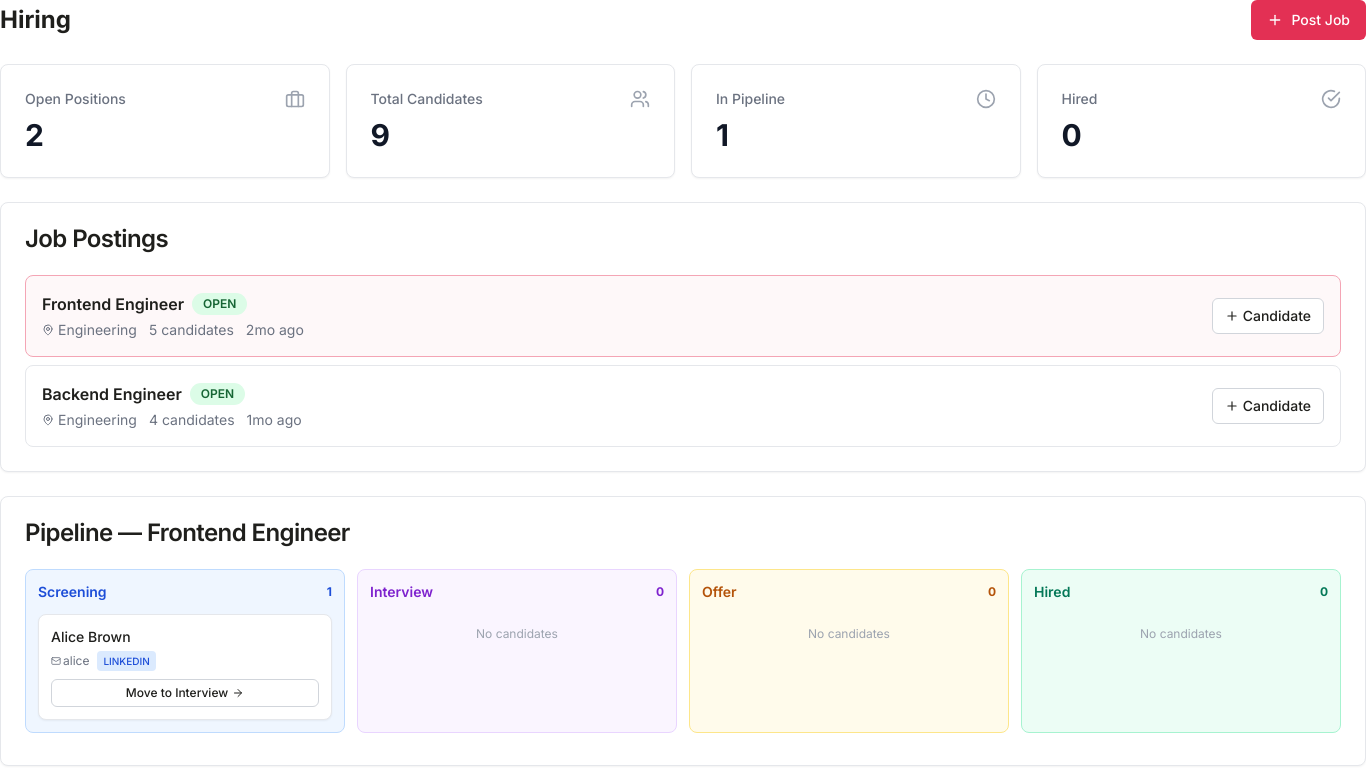
Test: HiringPage › C-10: Clicking the Post Job button causes the CreateJob modal to appear in the DOM
Click the button "Post Job": (1309, 20) [1251,0,1365,40]
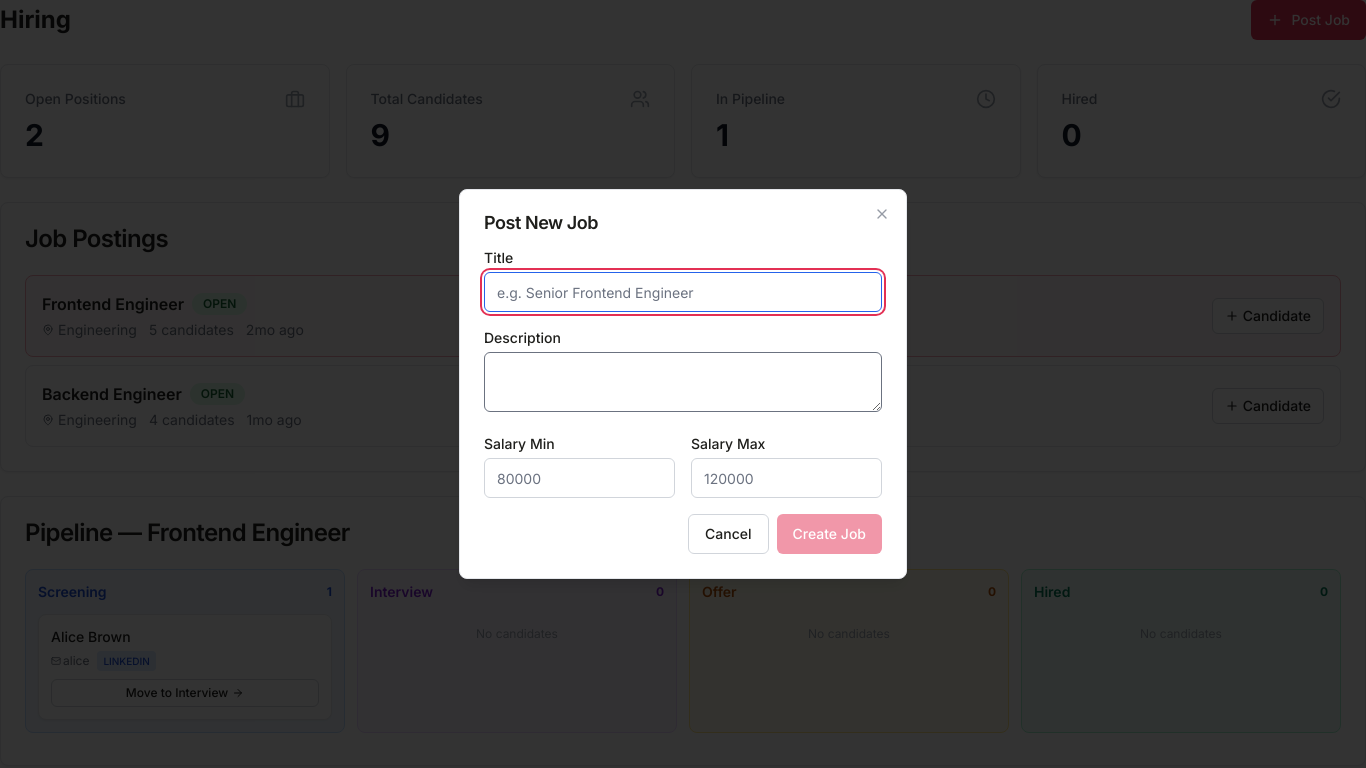
Now the heading "Post New Job" is shown, box [484,212,598,233]
Now the button "Create Job" is shown, box [776,514,882,554]
